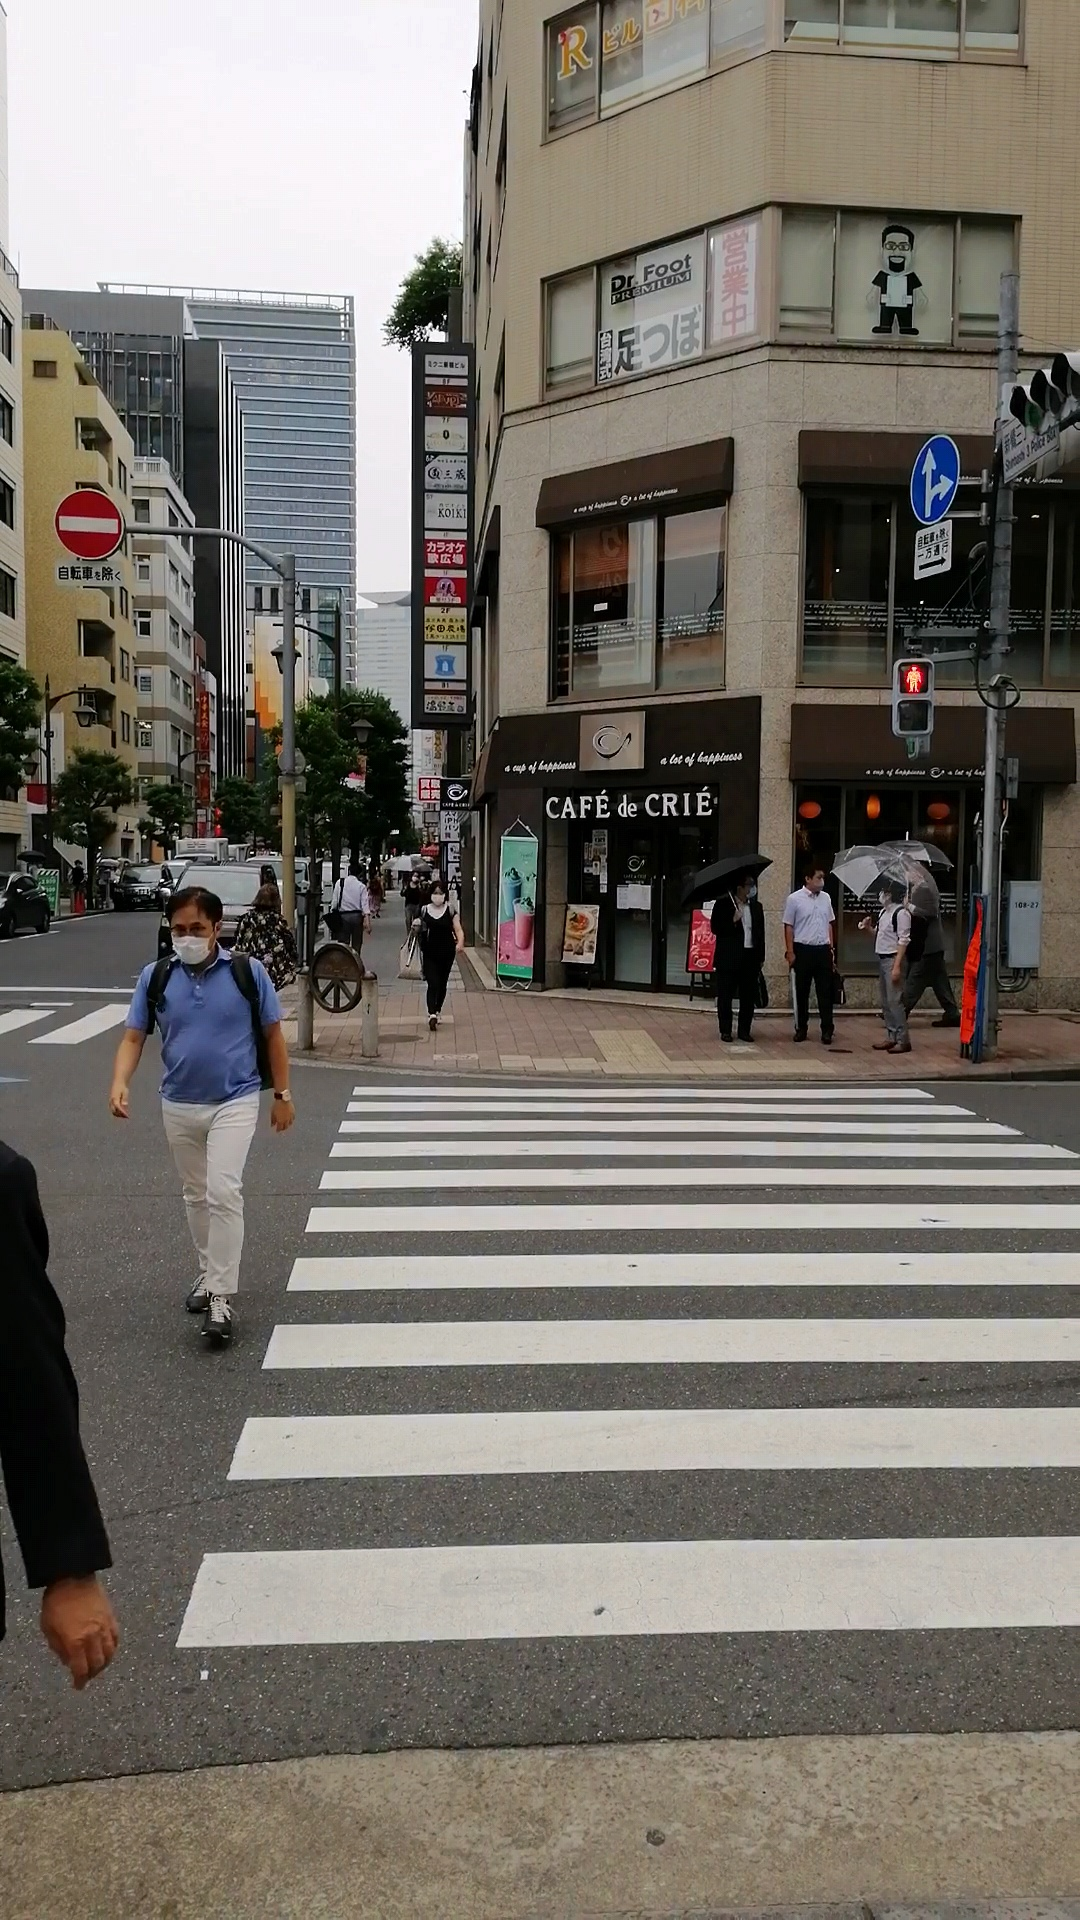red: (890, 655, 931, 740)
